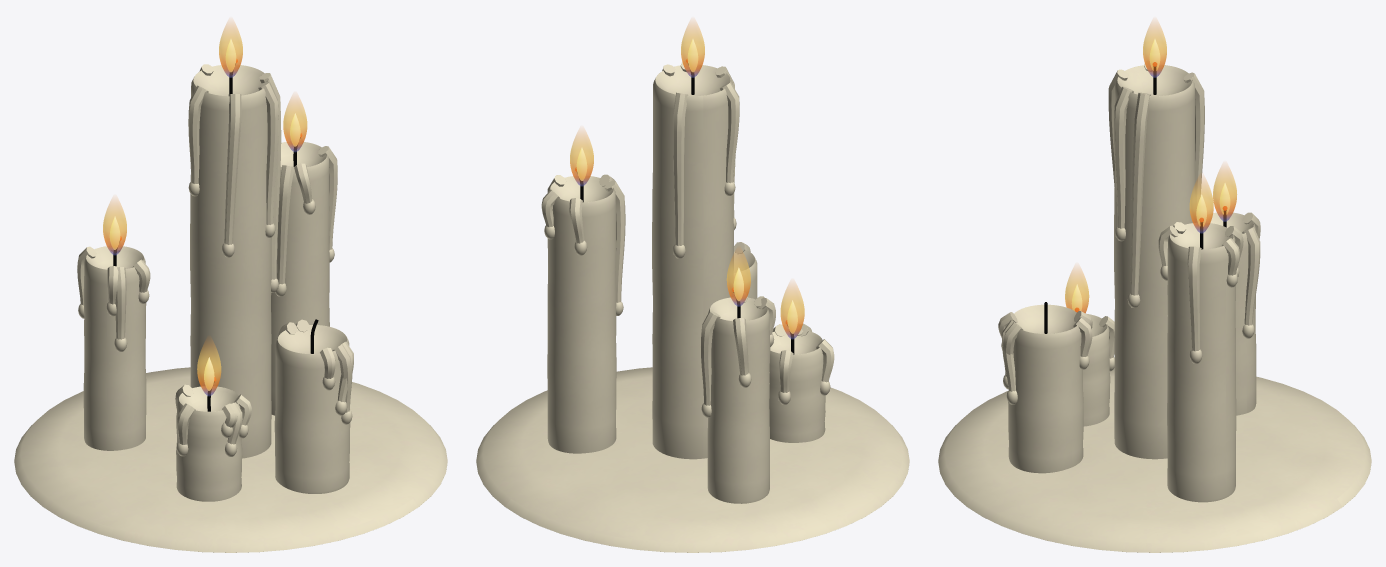
File: Candle_Cluster_Lit.gltf
3 renders of one model, left to right at view 1: azimuth 30°, elevation 25°; view 2: azimuth 150°, elevation 25°; view 3: azimuth 270°, elevation 25°, orthographic.
Parts seen in each view (by area): view 1: Candle_Cluster_Lit_Body, Candle_Cluster_Lit_Flame; view 2: Candle_Cluster_Lit_Body, Candle_Cluster_Lit_Flame; view 3: Candle_Cluster_Lit_Body, Candle_Cluster_Lit_Flame.
Boxes of the visible parts, x1=… form: Candle_Cluster_Lit_Body: x1=14, y1=59, x2=447, y2=552; Candle_Cluster_Lit_Flame: x1=103, y1=20, x2=307, y2=396; Candle_Cluster_Lit_Body: x1=476, y1=59, x2=909, y2=552; Candle_Cluster_Lit_Flame: x1=570, y1=20, x2=804, y2=339; Candle_Cluster_Lit_Body: x1=938, y1=61, x2=1371, y2=552; Candle_Cluster_Lit_Flame: x1=1065, y1=20, x2=1237, y2=313.
Bounding box in the file's own units: 0.2785 × 0.317 × 0.2785.
5 materials, 2 textured.
